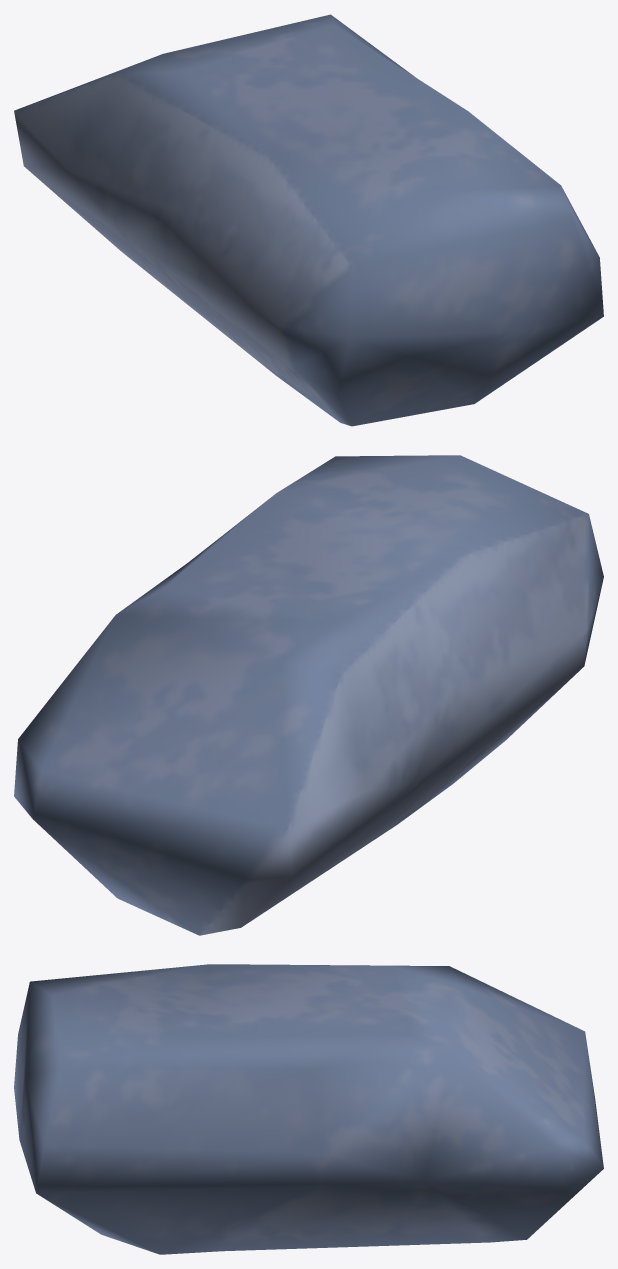
File: SM_Stage_Final_Crack_05.fbx
The picture shows the model from 3 angles, top to bottom: view 1: azimuth 30°, elevation 25°; view 2: azimuth 150°, elevation 25°; view 3: azimuth 270°, elevation 25°; orthographic projection. The views are drawn at different scales.
Visible parts, largest first — view 1: SM_Stage_Final_Crack_05; view 2: SM_Stage_Final_Crack_05; view 3: SM_Stage_Final_Crack_05.
Part boxes in pixels (x1=…): SM_Stage_Final_Crack_05: x1=14, y1=14, x2=603, y2=426; SM_Stage_Final_Crack_05: x1=14, y1=455, x2=603, y2=935; SM_Stage_Final_Crack_05: x1=14, y1=964, x2=603, y2=1254.
Bounding box in the file's own units: 10.46 × 8.9 × 20.35.
1 material, 1 textured.
